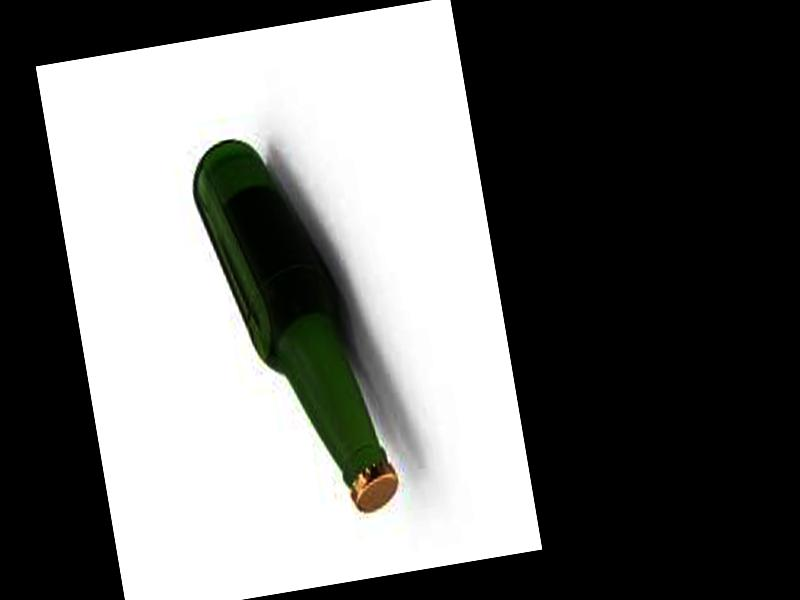Beer: (185, 121, 403, 534)
